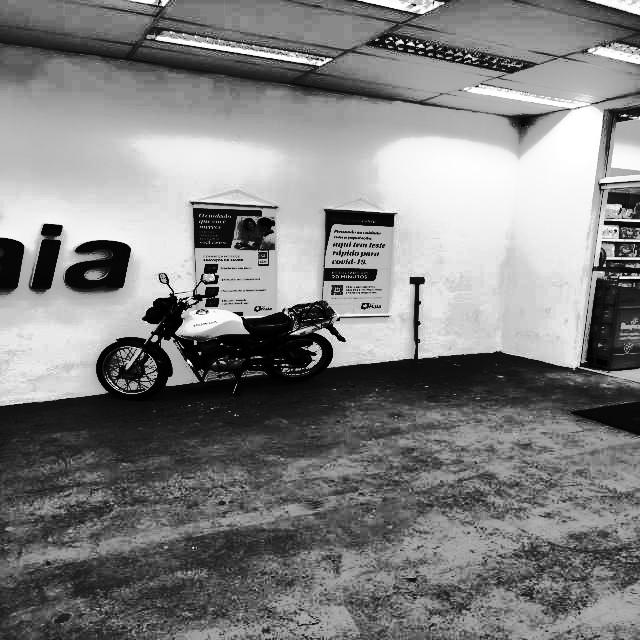qr_code: (331, 285, 344, 295), (259, 252, 268, 259)
